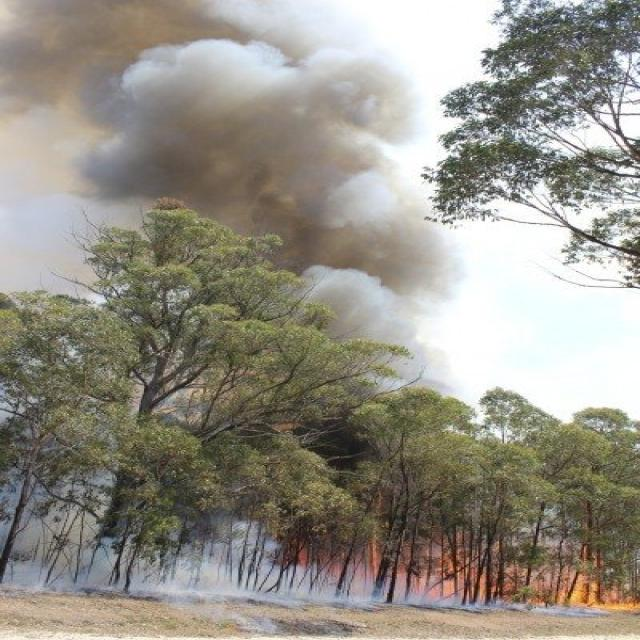smoke: (32, 5, 357, 154), (314, 178, 418, 334), (98, 550, 238, 592)
